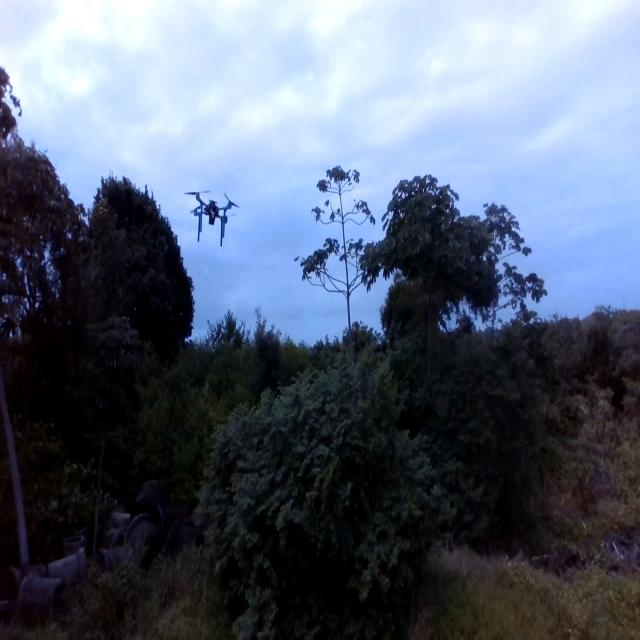-uav-: (178, 175, 247, 261)
